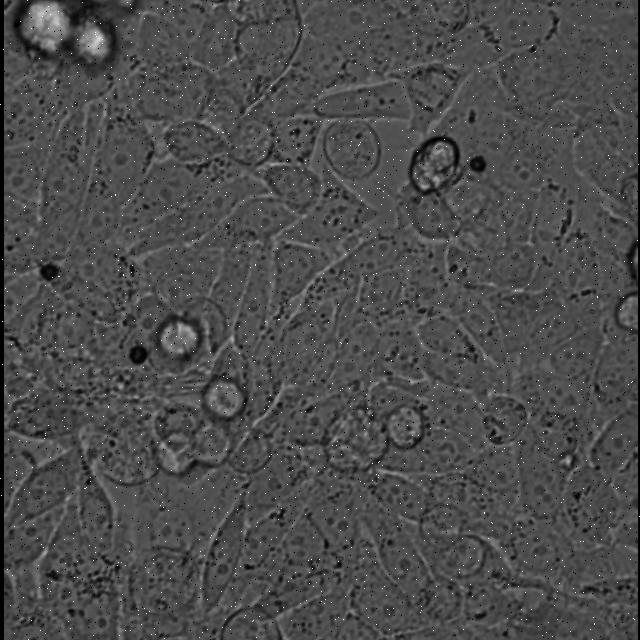microbeads: (125, 343, 146, 367), (464, 154, 488, 174), (38, 260, 58, 282)
